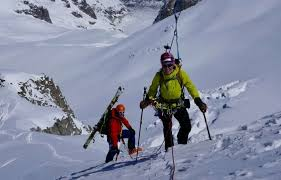skis: (83, 86, 126, 149)
